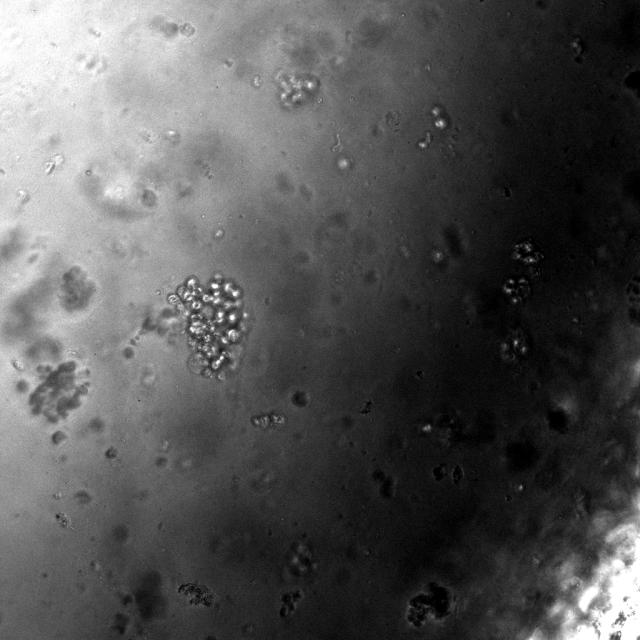organoid: (168, 274, 249, 380), (29, 360, 89, 423), (406, 582, 454, 628), (274, 70, 319, 108), (59, 266, 96, 311), (511, 238, 543, 270), (500, 329, 529, 362), (178, 583, 213, 606), (279, 589, 304, 618), (502, 277, 529, 303), (251, 411, 286, 430), (372, 469, 395, 497), (291, 390, 308, 407), (432, 463, 447, 480), (452, 465, 463, 484), (52, 430, 66, 444), (16, 379, 28, 392)
